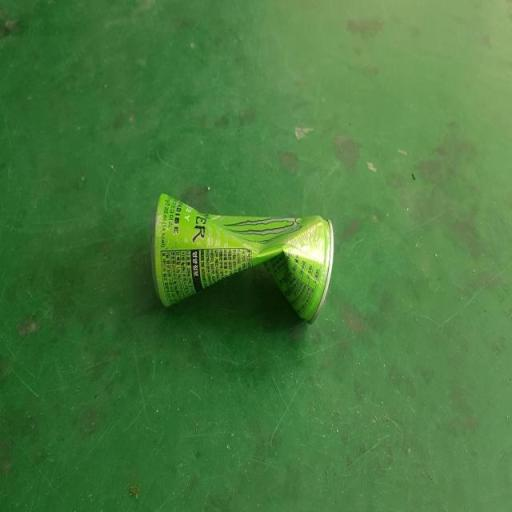metal: (115, 182, 358, 336)
